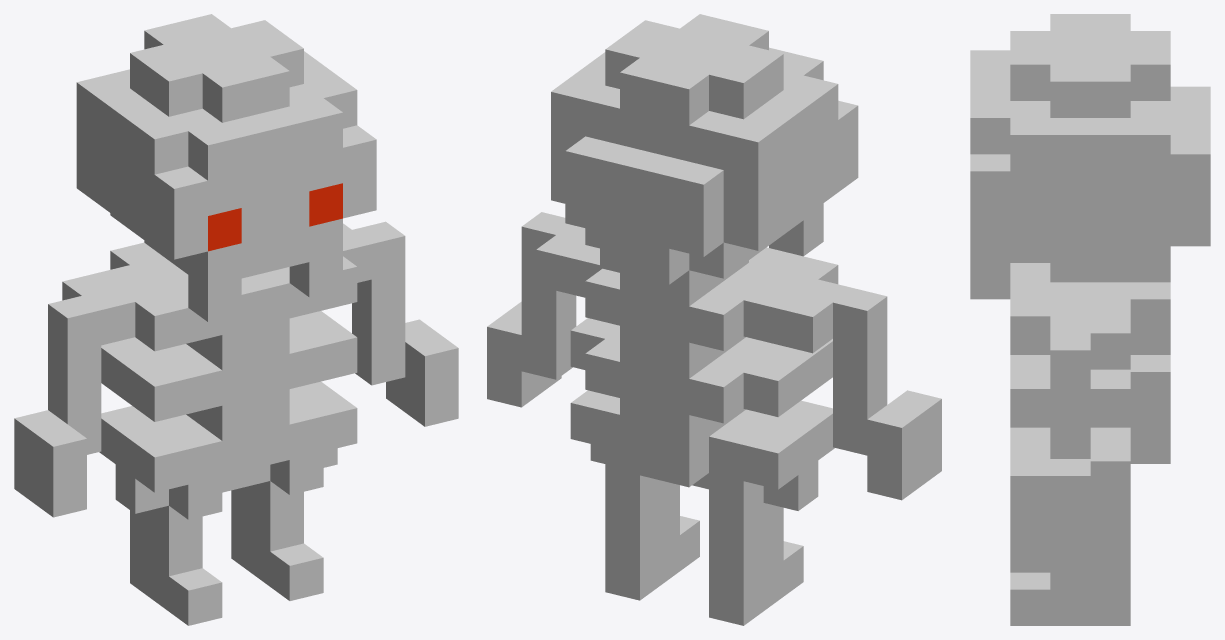
The model's file is skeleton.fbx.
3 views of the same model, side by side, from view 1: azimuth 30°, elevation 25°; view 2: azimuth 150°, elevation 25°; view 3: azimuth 270°, elevation 25° (orthographic). The views are drawn at different scales.
Visible parts, largest first — view 1: 对象; view 2: 对象; view 3: 对象.
Part boxes in pixels (x1,y1,x2,y2): 对象: [14, 14, 458, 625]; 对象: [487, 14, 941, 625]; 对象: [970, 14, 1210, 625].
Size of the model in its own units: 12 by 15 by 6.
1 material, 1 textured.
